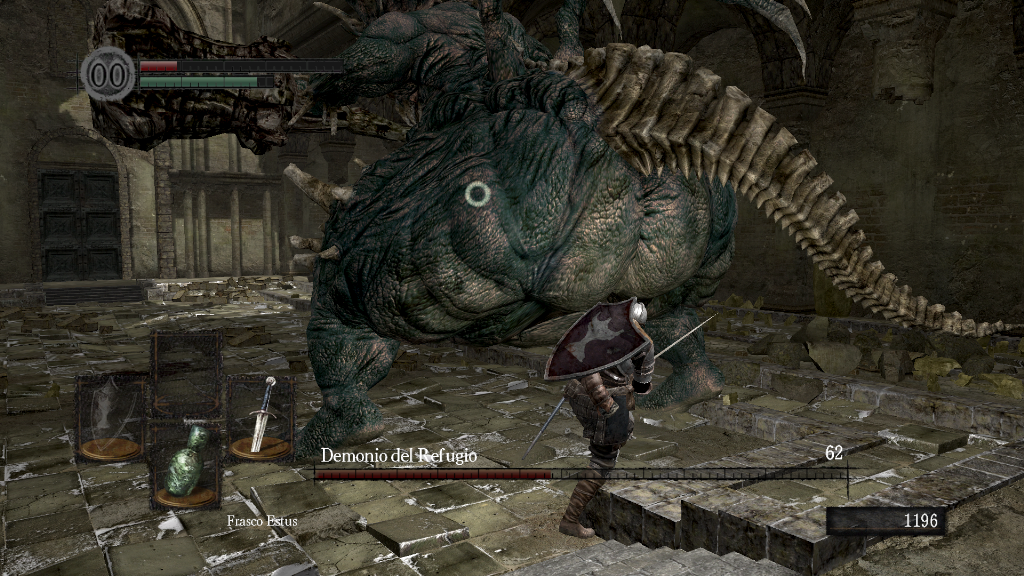asylumDemon: (86, 1, 1023, 466)
bossHP: (314, 469, 847, 479)
health: (138, 58, 343, 71)
humanity: (80, 45, 136, 102)
player: (539, 294, 657, 538)
souls: (825, 506, 945, 536)
stamina: (138, 74, 274, 88)
